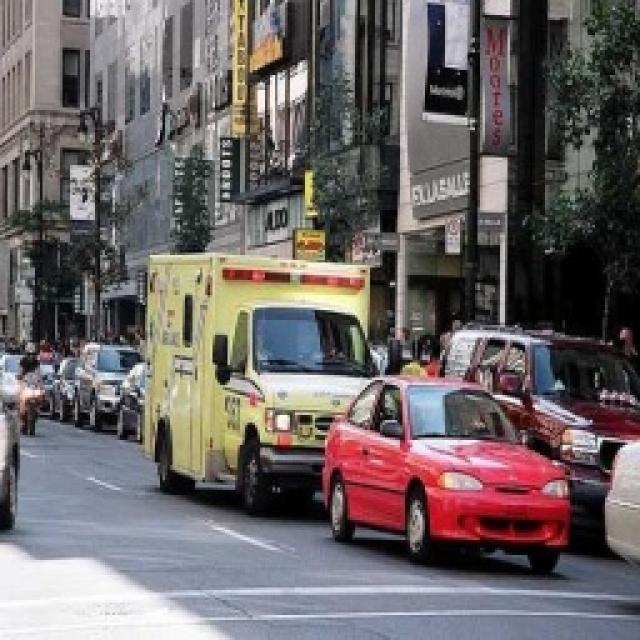emergency-vehicle: (143, 252, 385, 509)
